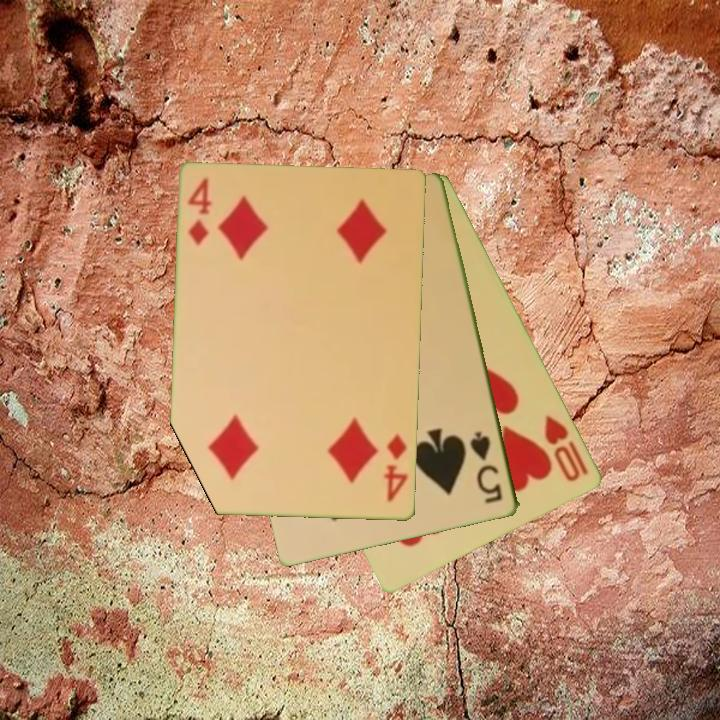10h: (541, 412, 592, 485)
4d: (185, 175, 216, 248), (381, 431, 411, 505)
5s: (467, 428, 506, 507)
